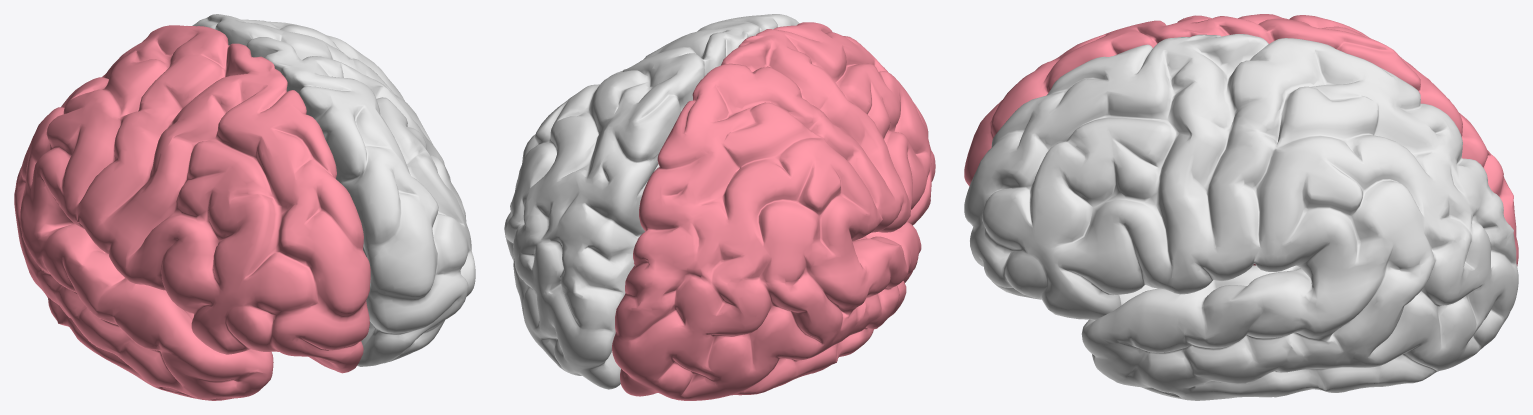
The model's file is brain.gltf.
3 renders of one model, left to right at view 1: azimuth 30°, elevation 25°; view 2: azimuth 150°, elevation 25°; view 3: azimuth 270°, elevation 25°, orthographic. The views are drawn at different scales.
Visible parts, largest first — view 1: Brain_Part_06; view 2: Brain_Part_06; view 3: Brain_Part_06.
Part boxes in pixels (<box>): Brain_Part_06: <box>14,14,475,400</box>; Brain_Part_06: <box>504,14,935,400</box>; Brain_Part_06: <box>964,14,1518,400</box>.
Bounding box in the file's own units: 3.8 × 3.01 × 4.73.
